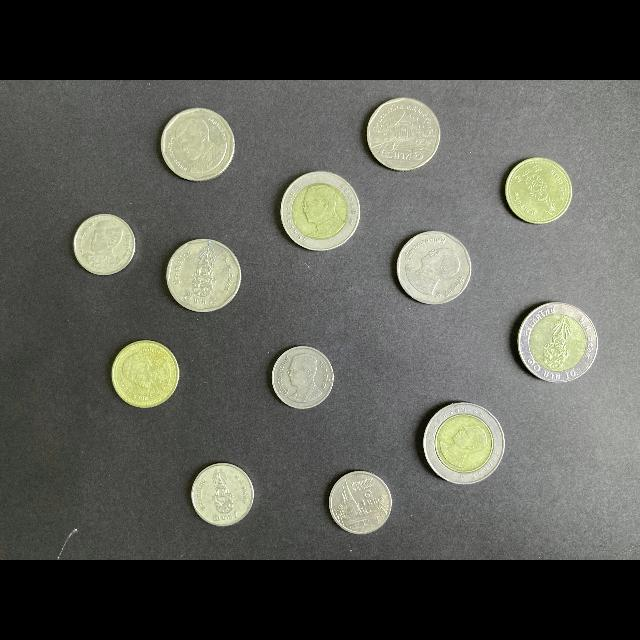1 Bath: (267, 343, 340, 414), (188, 458, 258, 531), (326, 467, 396, 538), (73, 211, 139, 281)
10 Bath: (513, 297, 603, 387), (421, 399, 509, 489), (278, 167, 363, 257)
2 Bath: (503, 154, 577, 228), (113, 337, 181, 413)
5 Bath: (390, 224, 476, 309), (364, 96, 445, 176), (159, 104, 237, 186), (167, 237, 245, 316)
